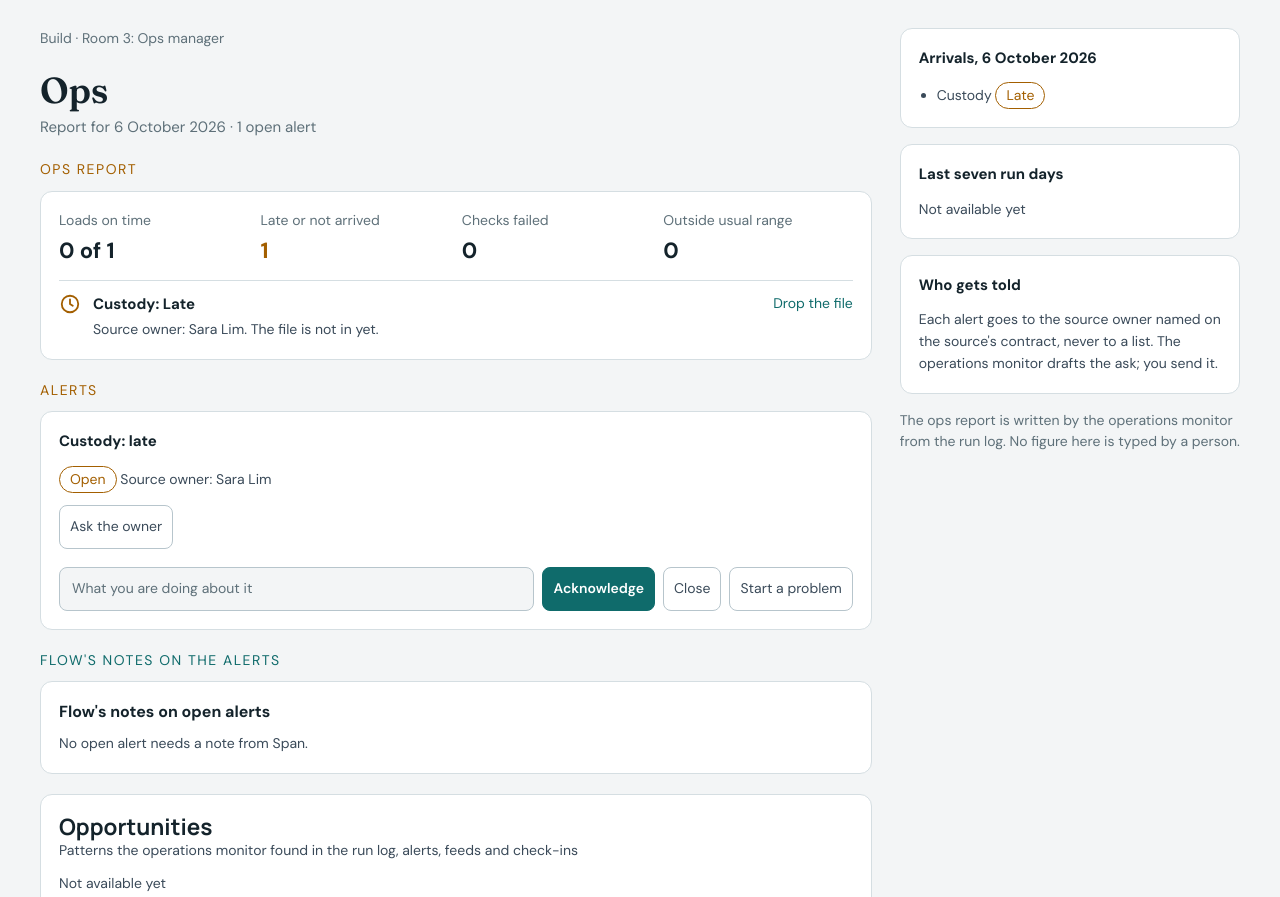
Test: Ops page › an alert shows its owner and the drafted ask
Expected: the text "Source owner: Sara Lim. The file is not in yet." is shown, [93,320,378,338]
Expected: the text "Custody: Late" is shown, [93,294,195,314]
Click the button "Ask the owner" at (116, 527), box [59,505,173,549]
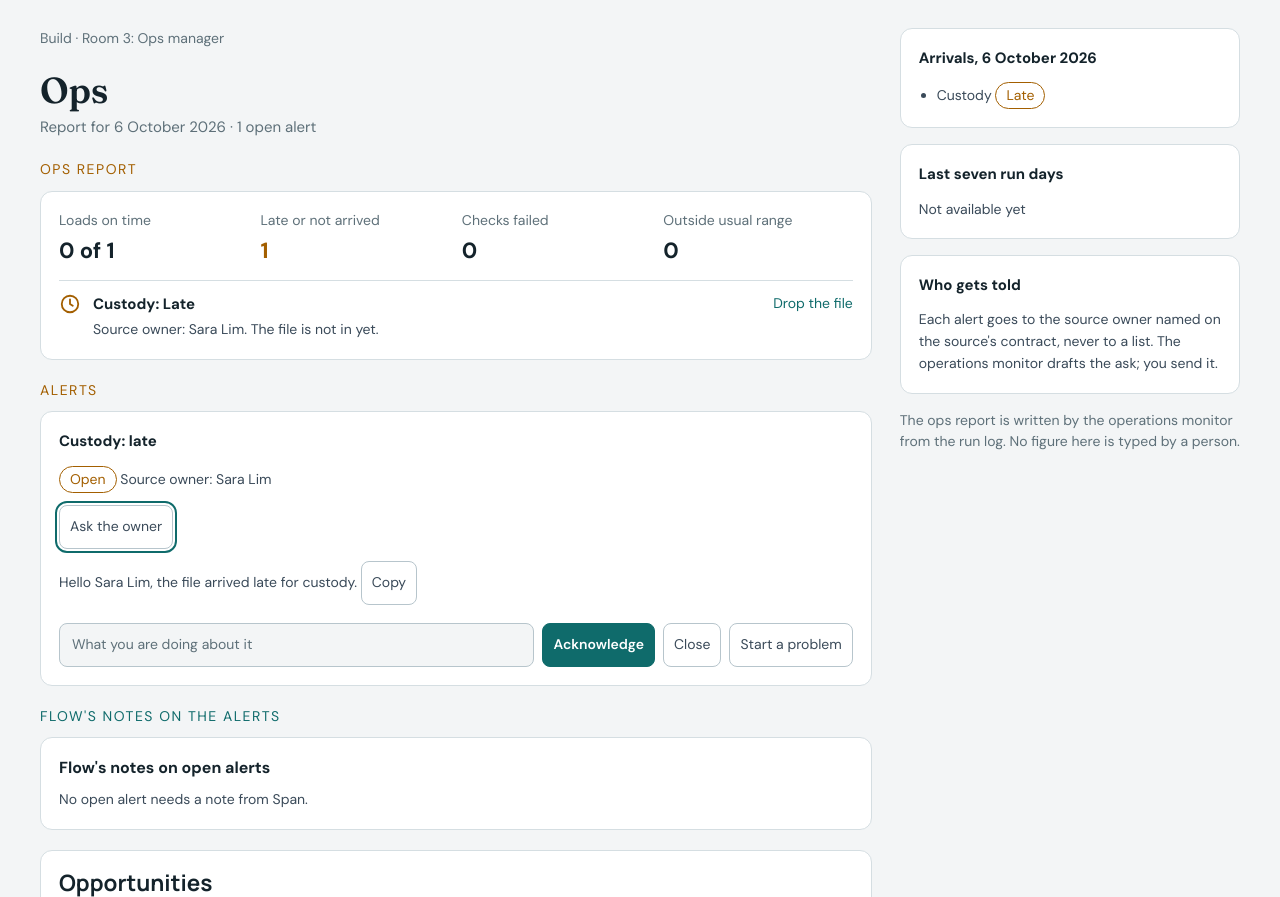
Now the text "Hello Sara Lim, the file arrived late for custody. Copy" is shown, box [59,561,417,605]
Now the button "Copy" is shown, box [361,561,417,605]
